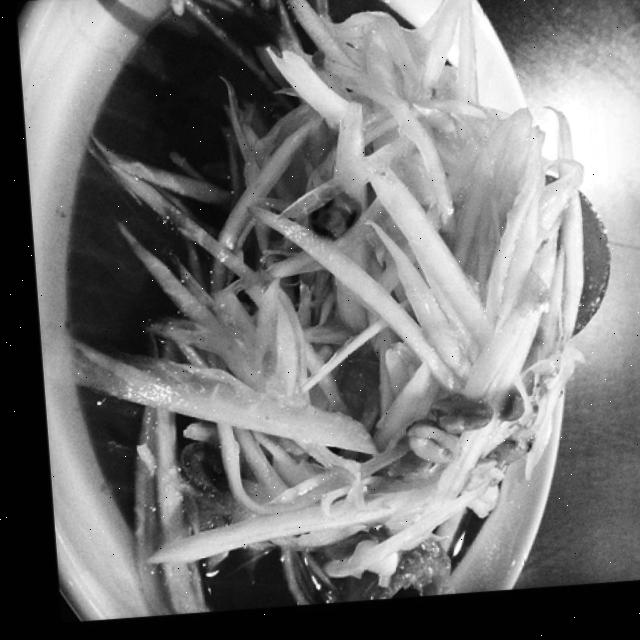蔬菜料理: (27, 0, 631, 617)
